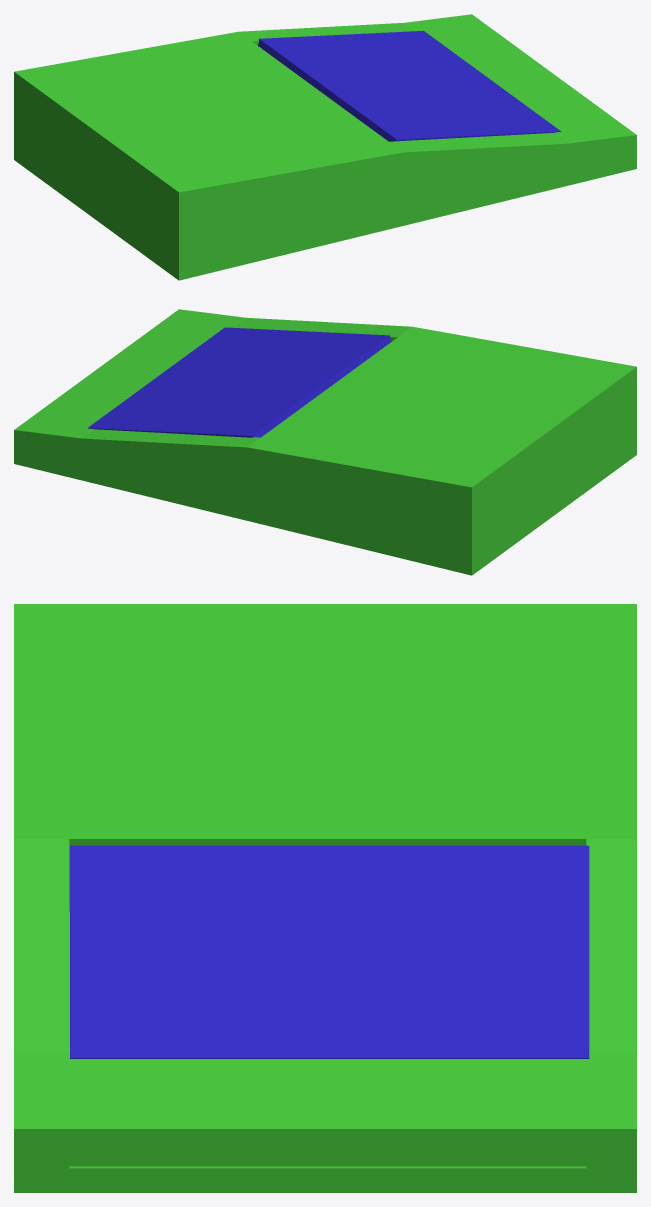
The model's file is Objeto_TocaFitas_2.0.fbx.
The picture shows the model from 3 angles, top to bottom: view 1: azimuth 30°, elevation 25°; view 2: azimuth 150°, elevation 25°; view 3: azimuth 270°, elevation 25°; orthographic projection. The views are drawn at different scales.
Parts seen in each view (by area): view 1: tampa; view 2: tampa; view 3: tampa.
Boxes of the visible parts, x1,y1,x2,y2 form: tampa: (14,14,636,280); tampa: (14,309,636,575); tampa: (14,604,636,1192).
Size of the model in its own units: 370 by 68.1 by 231.
